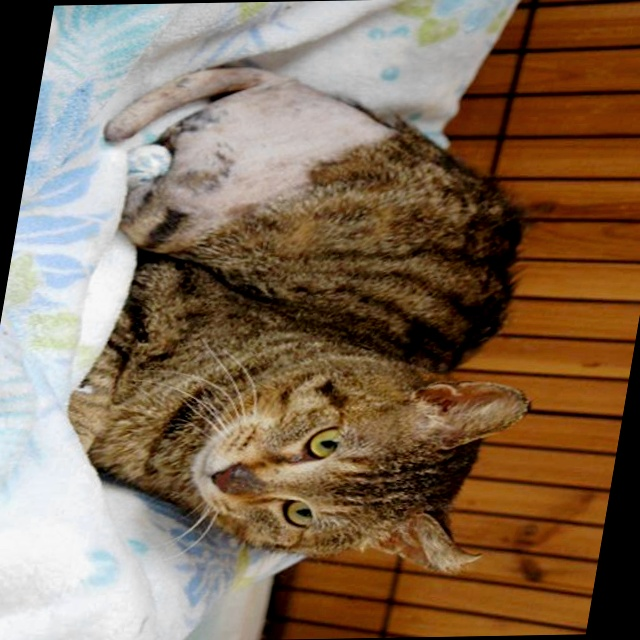hairloss: (143, 82, 392, 214)
